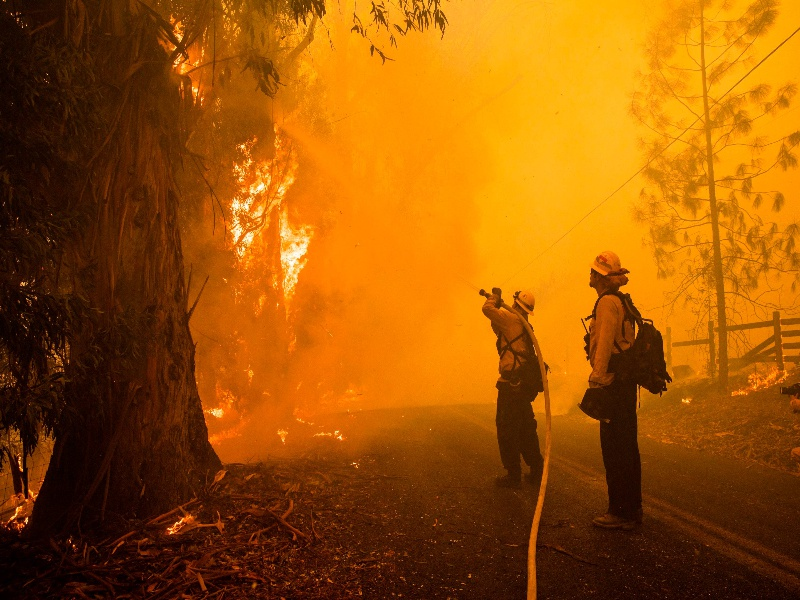fire: (217, 134, 320, 299), (202, 377, 249, 438)
